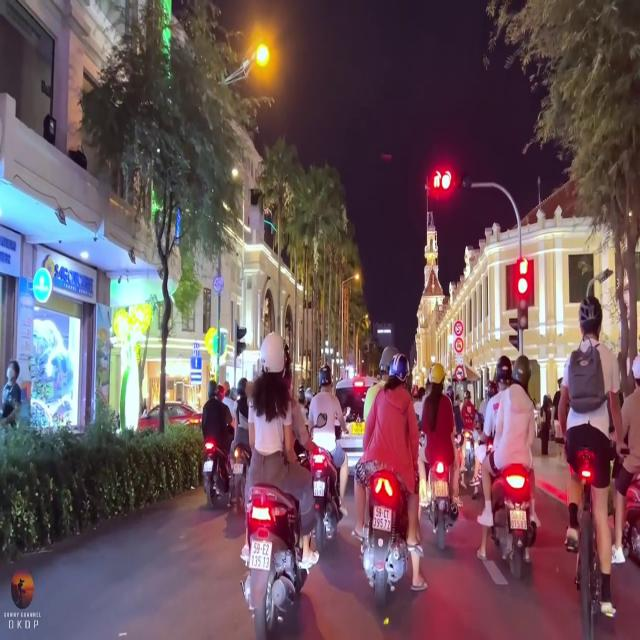bien_trang: (248, 540, 273, 571), (373, 507, 390, 531), (510, 512, 527, 530), (433, 480, 448, 498)
